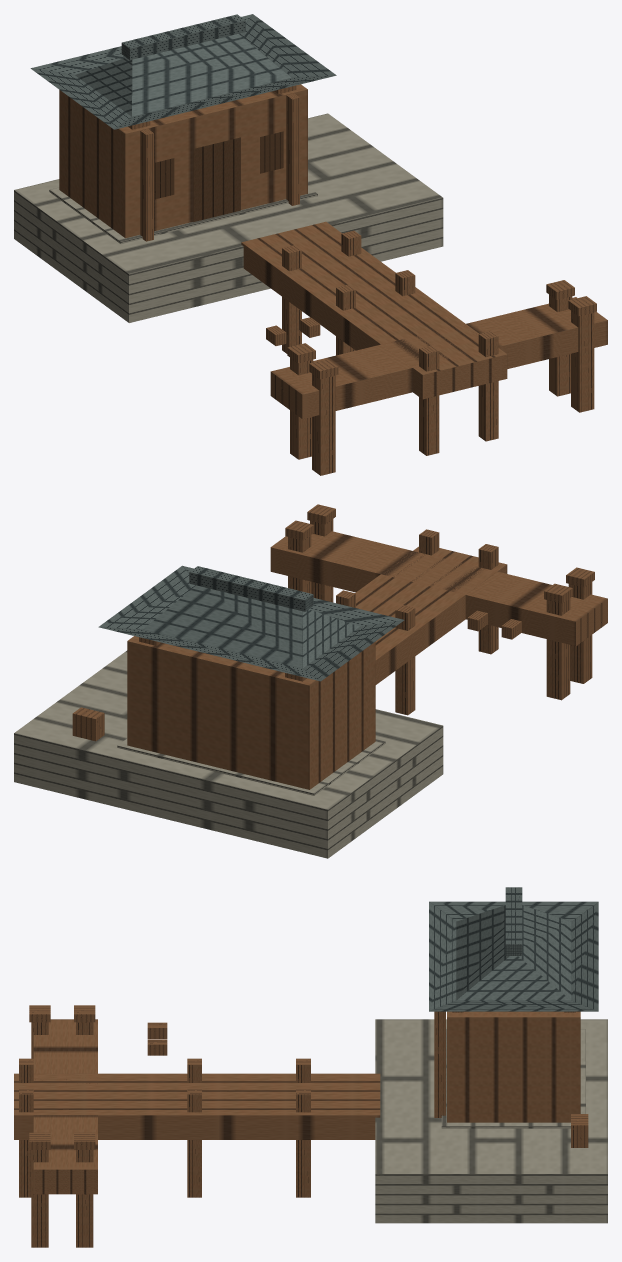
The model's file is port-lod1.glb.
3 views of the same model, one above another, from view 1: azimuth 30°, elevation 25°; view 2: azimuth 150°, elevation 25°; view 3: azimuth 270°, elevation 25° (orthographic).
Bounding box in the file's own units: 0.74 × 0.551 × 1.2.
Materials: 1 (1 with a texture image).
